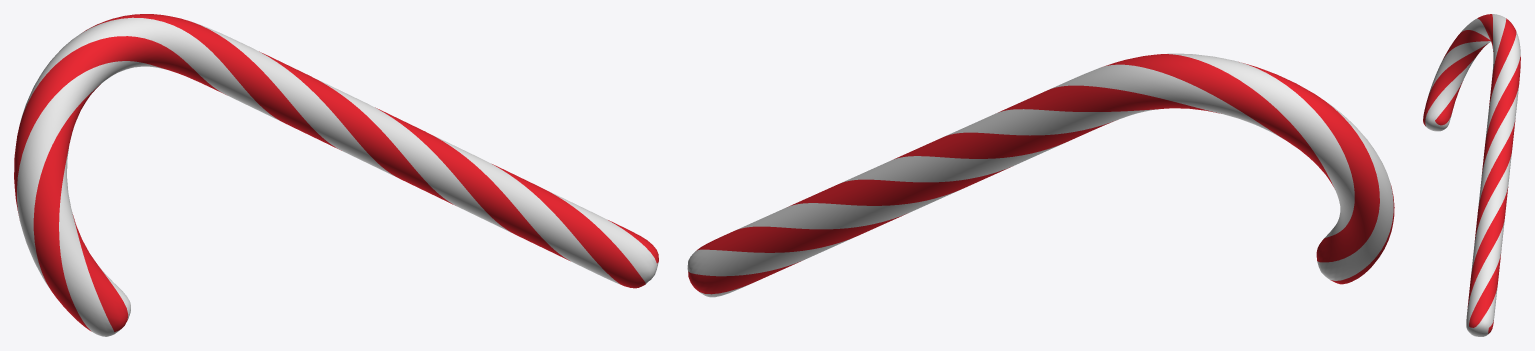
File: candy.glb
3 renders of one model, left to right at view 1: azimuth 30°, elevation 25°; view 2: azimuth 150°, elevation 25°; view 3: azimuth 270°, elevation 25°, orthographic. The views are drawn at different scales.
Parts seen in each view (by area): view 1: Circle; view 2: Circle; view 3: Circle.
Part boxes in pixels (x1,y1,x2,y2): Circle: (14,14,658,336); Circle: (687,53,1394,297); Circle: (1423,14,1520,336).
Bounding box in the file's own units: 5.06 × 2.72 × 1.27.
